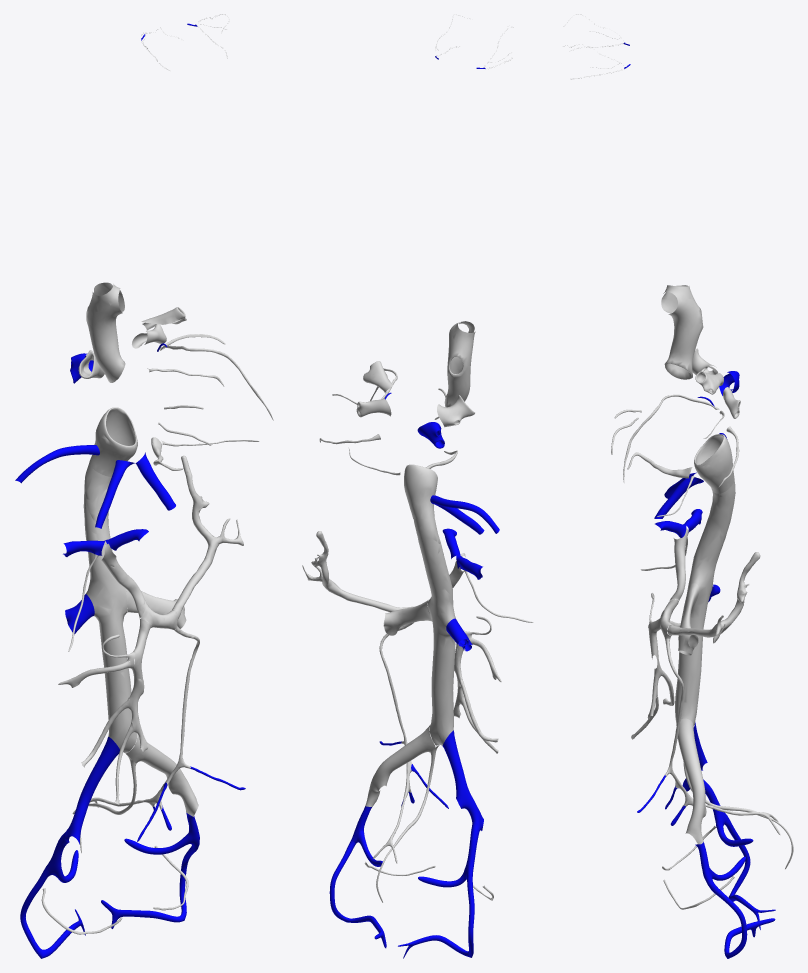
Rendered from veins.glb.
3 views of the same model, side by side, from view 1: azimuth 30°, elevation 25°; view 2: azimuth 150°, elevation 25°; view 3: azimuth 270°, elevation 25° (orthographic). The views are drawn at different scales.
Parts seen in each view (by area): view 1: HRA-VH_F_inferior_vena_cava_b, HRA-VH_F_superior_vena_cava, HRA-VH_F_splenic_vein, HRA-VH_F_inferior_vena_cava_a, HRA-VH_F_left_common_iliac_vein, HRA-VH_F_right_common_iliac_vein, HRA-VH_F_superior_mesenteric_vein, HRA-VH_F_inferior_mesenteric_vein, HRA-VH_F_hepatic_portal_vein, HRA-VH_F_right_hepatic_vein, HRA-VH_F_left_renal_vein, HRA-VH_F_middle_hepatic_vein (+4 smaller); view 2: HRA-VH_F_inferior_vena_cava_b, HRA-VH_F_superior_vena_cava, HRA-VH_F_inferior_vena_cava_a, HRA-VH_F_left_common_iliac_vein, HRA-VH_F_splenic_vein, HRA-VH_F_right_common_iliac_vein, HRA-VH_F_left_renal_vein, HRA-VH_F_pulmonary_vein_R_sup, HRA-VH_F_inferior_mesenteric_vein, HRA-VH_F_right_hepatic_vein, HRA-VH_F_median_sacral_vein, HRA-VH_F_pulmonary_vein_L_sup (+1 smaller); view 3: HRA-VH_F_inferior_vena_cava_b, HRA-VH_F_superior_vena_cava, HRA-VH_F_left_common_iliac_vein, HRA-VH_F_inferior_vena_cava_a, HRA-VH_F_splenic_vein, HRA-VH_F_left_renal_vein, HRA-VH_F_inferior_mesenteric_vein, HRA-VH_F_hepatic_portal_vein, HRA-VH_F_superior_mesenteric_vein, HRA-VH_F_internal_pudendal_vein_L, HRA-VH_F_left_hepatic_vein.
Part boxes in pixels (<box>): HRA-VH_F_inferior_vena_cava_b: <box>83,464,136,753</box>; HRA-VH_F_superior_vena_cava: <box>86,282,125,382</box>; HRA-VH_F_splenic_vein: <box>141,455,243,629</box>; HRA-VH_F_inferior_vena_cava_a: <box>89,407,137,476</box>; HRA-VH_F_left_common_iliac_vein: <box>126,734,198,816</box>; HRA-VH_F_right_common_iliac_vein: <box>65,737,119,844</box>; HRA-VH_F_superior_mesenteric_vein: <box>128,618,150,752</box>; HRA-VH_F_inferior_mesenteric_vein: <box>143,626,199,809</box>; HRA-VH_F_hepatic_portal_vein: <box>101,543,145,617</box>; HRA-VH_F_right_hepatic_vein: <box>15,445,99,483</box>; HRA-VH_F_left_renal_vein: <box>126,589,186,628</box>; HRA-VH_F_middle_hepatic_vein: <box>95,460,134,528</box>; HRA-VH_F_inferior_vena_cava_b: <box>413,517,455,745</box>; HRA-VH_F_superior_vena_cava: <box>444,321,475,407</box>; HRA-VH_F_inferior_vena_cava_a: <box>404,464,437,518</box>; HRA-VH_F_left_common_iliac_vein: <box>365,725,435,806</box>; HRA-VH_F_splenic_vein: <box>302,531,413,612</box>; HRA-VH_F_right_common_iliac_vein: <box>442,730,483,830</box>; HRA-VH_F_left_renal_vein: <box>383,600,432,635</box>; HRA-VH_F_pulmonary_vein_R_sup: <box>437,395,474,427</box>; HRA-VH_F_inferior_mesenteric_vein: <box>379,622,413,800</box>; HRA-VH_F_right_hepatic_vein: <box>430,495,499,533</box>; HRA-VH_F_median_sacral_vein: <box>376,745,439,902</box>; HRA-VH_F_pulmonary_vein_L_sup: <box>363,361,392,393</box>; HRA-VH_F_inferior_vena_cava_b: <box>675,481,735,725</box>; HRA-VH_F_superior_vena_cava: <box>661,285,703,379</box>; HRA-VH_F_left_common_iliac_vein: <box>676,718,706,844</box>; HRA-VH_F_inferior_vena_cava_a: <box>694,434,734,493</box>; HRA-VH_F_splenic_vein: <box>660,552,760,643</box>; HRA-VH_F_left_renal_vein: <box>678,583,699,655</box>; HRA-VH_F_inferior_mesenteric_vein: <box>664,638,705,806</box>; HRA-VH_F_hepatic_portal_vein: <box>669,528,688,600</box>; HRA-VH_F_superior_mesenteric_vein: <box>647,612,663,719</box>; HRA-VH_F_internal_pudendal_vein_L: <box>708,881,747,958</box>; HRA-VH_F_left_hepatic_vein: <box>654,476,703,518</box>.
Bounding box in the file's own units: 0.4081 × 1.73 × 0.3995.
